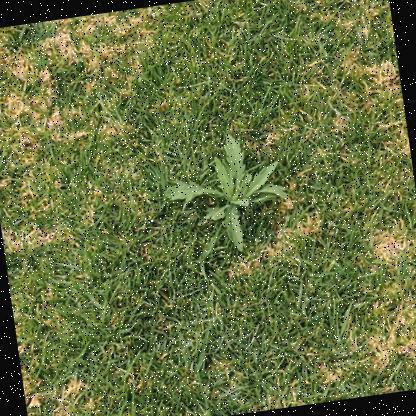Weeds: (156, 127, 295, 262)
